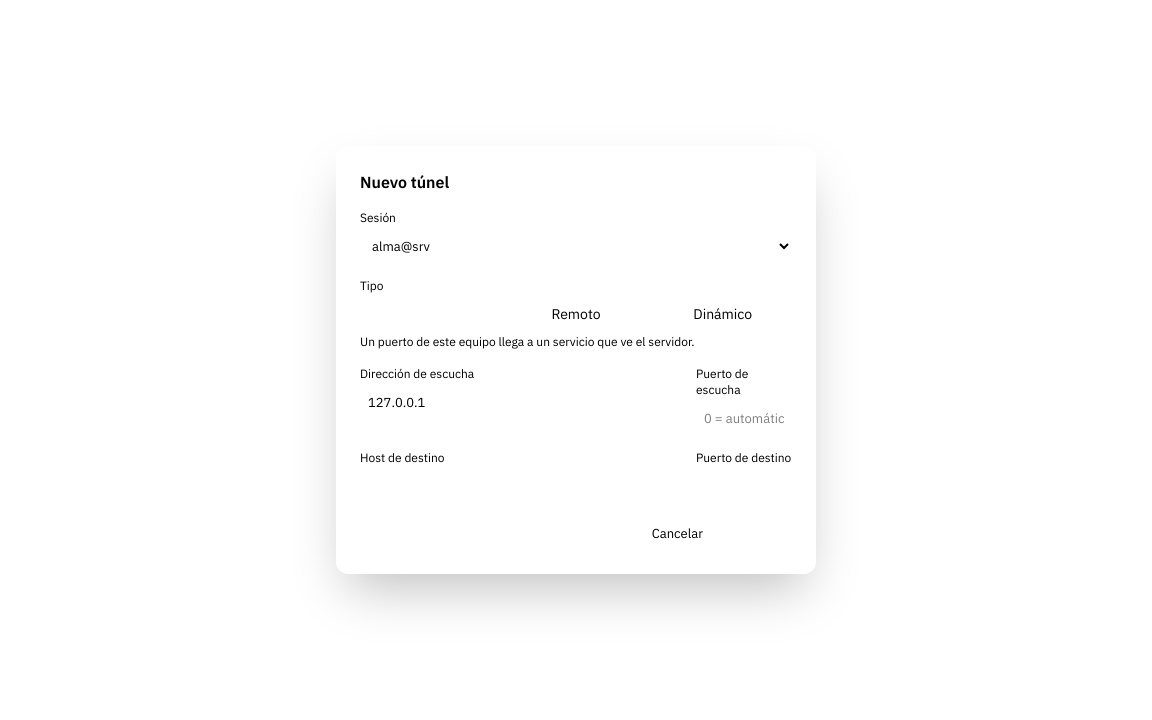
Test: TunnelDialog › hides the destination of a dynamic tunnel
Click the radio button labelled "Dinámico" at (723, 314), box [693,305,752,323]
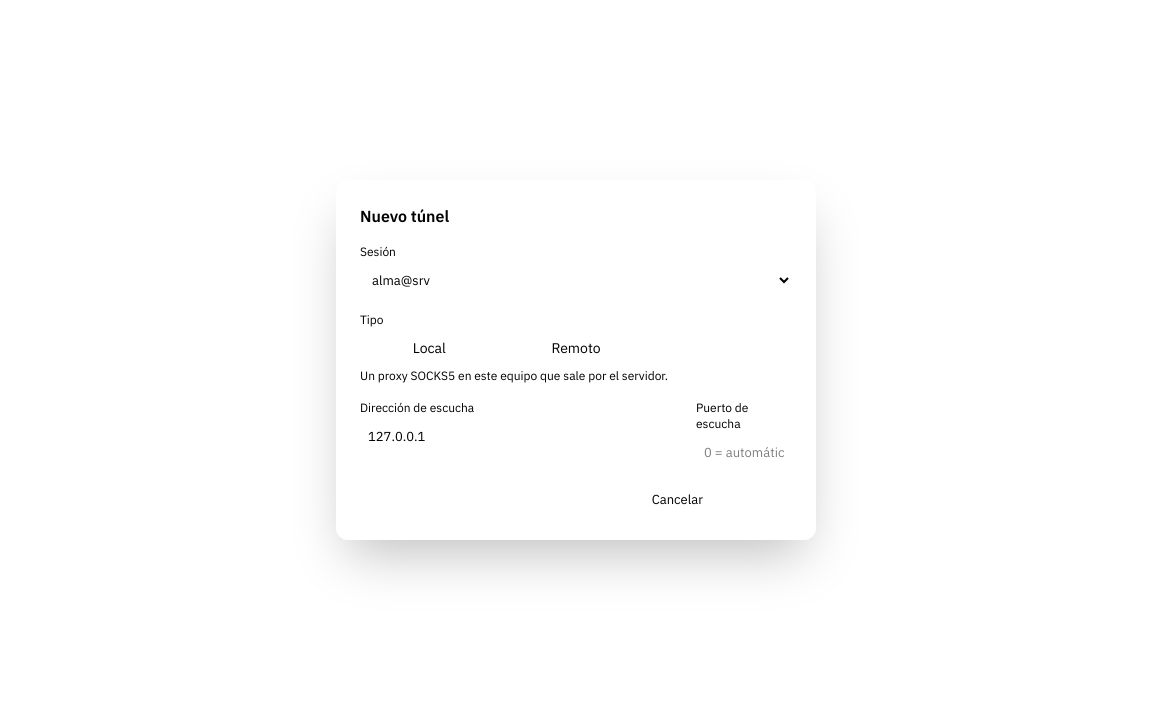
Expected: the label labelled "Host de destino" is gone
Expected: the text "Un proxy SOCKS5 en este equipo que sale por el servidor." is shown, [360,368,668,383]
